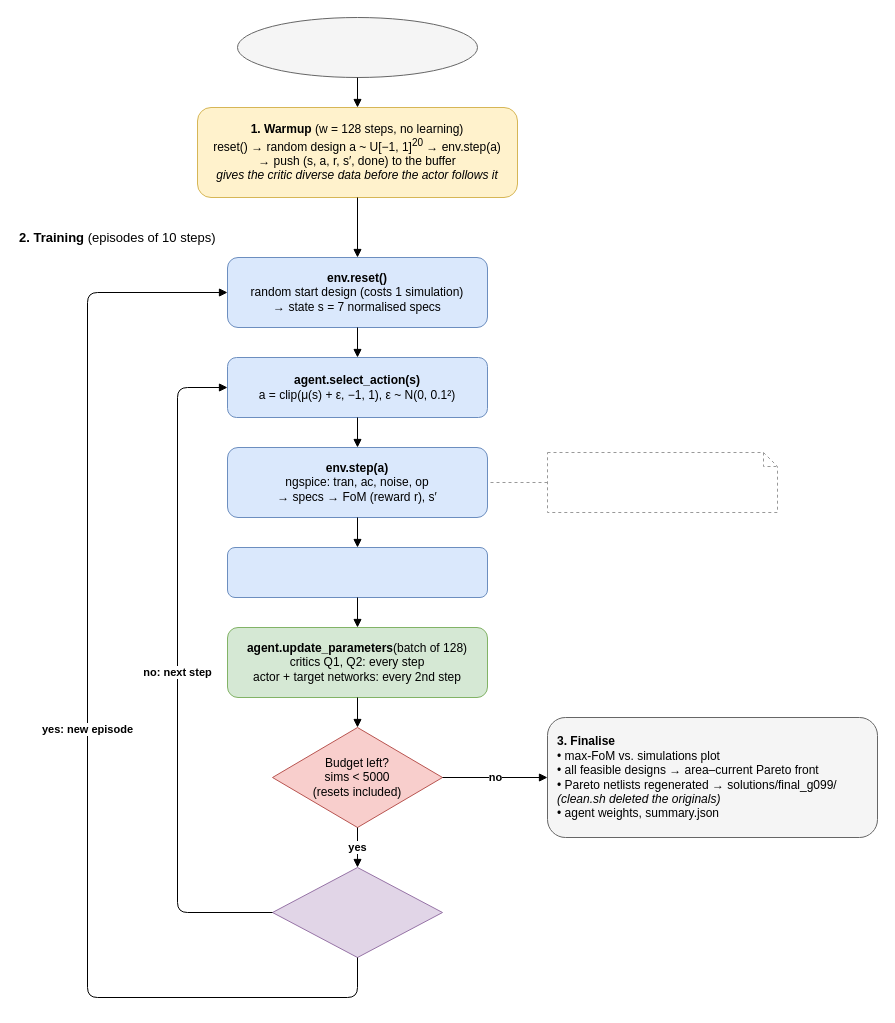
Image size: 895x1023. Some labels were removed from this diagram. Here are the shapes that lost their labels. From the top down, the centre of each, then its label:
At point 357,47: "Start seed, CircuitEnv, TD3 agent, ReplayBuffer".
At point 662,482: "clean.sh every 100 steps empties no_backup/ (netlists, CSVs)".
At point 357,572: "ReplayBuffer.push (s, a, r, s′, done)".
At point 357,912: "Episode done? (10 steps)".
